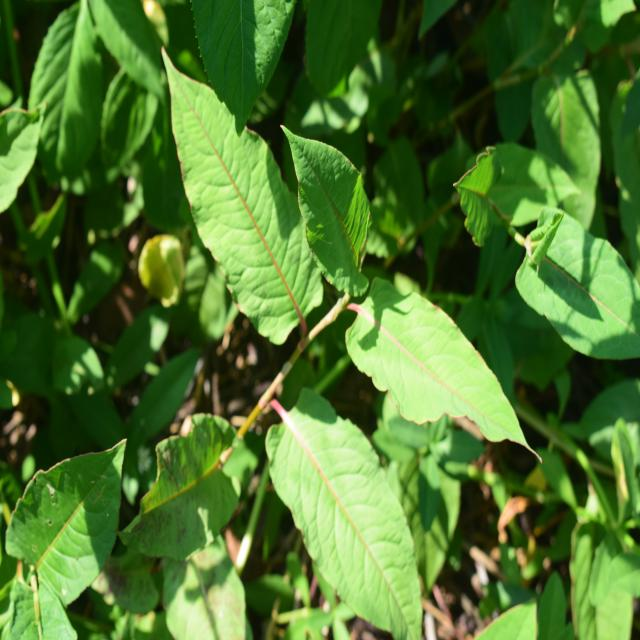Chinese_knotweed: (163, 76, 497, 587)
